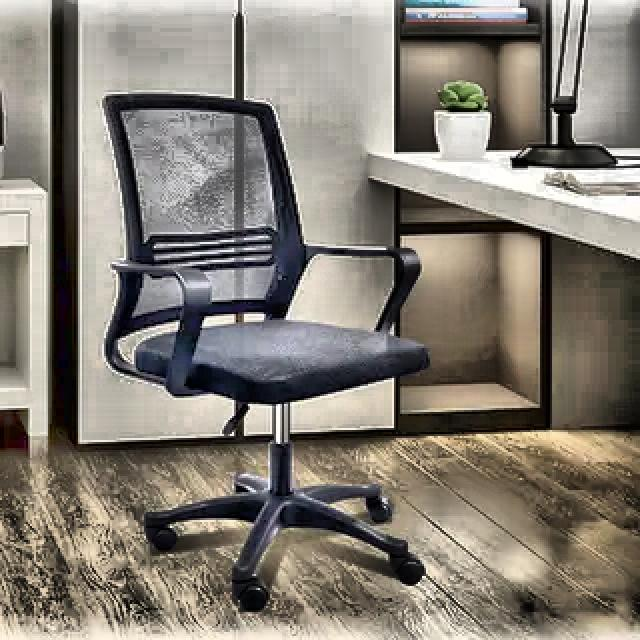cadeira: (94, 86, 434, 616)
